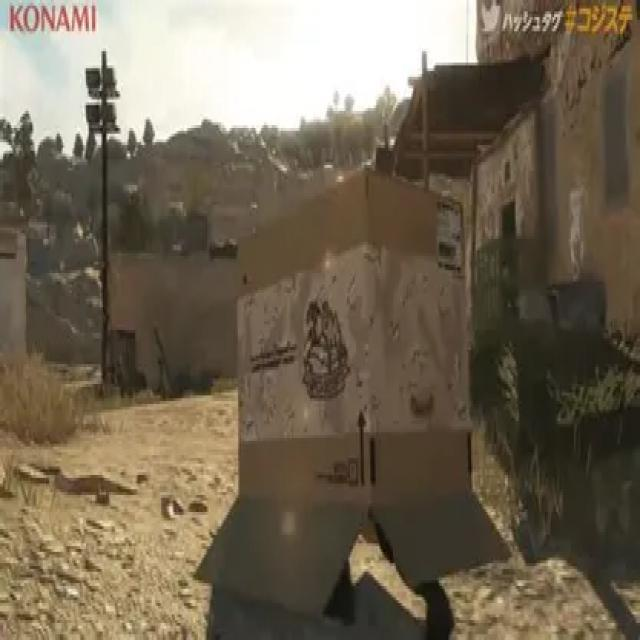snake-in-cardboard-boxes: (187, 167, 514, 620)
